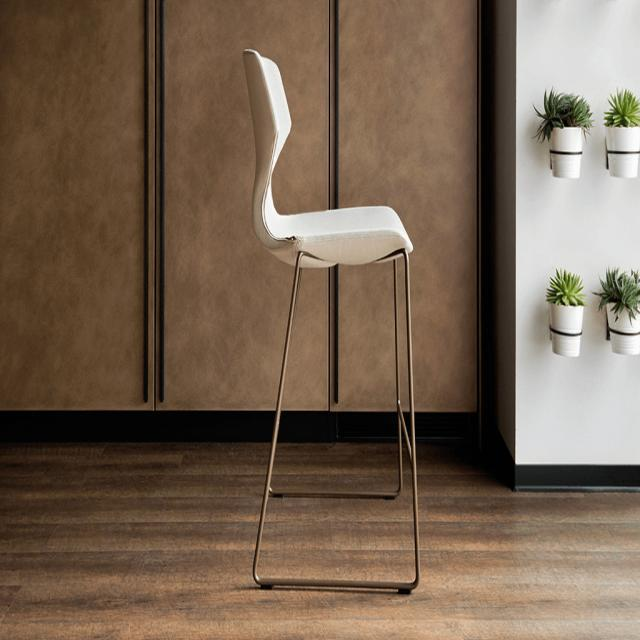chair: (240, 43, 422, 603), (237, 41, 425, 285)
